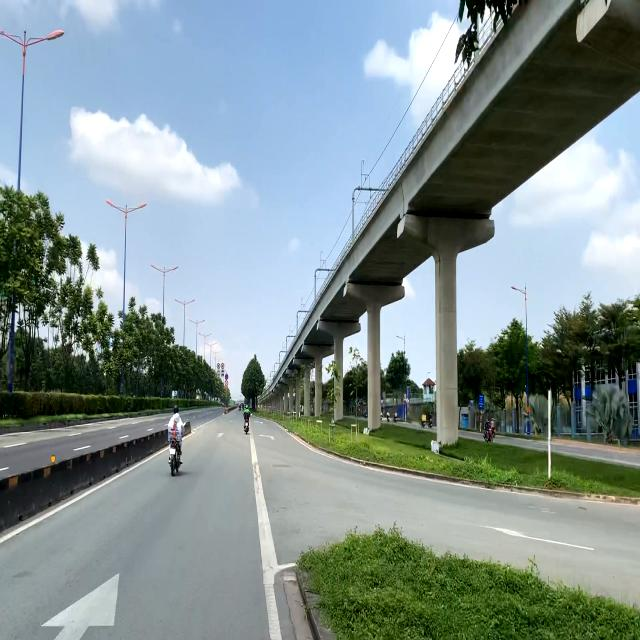P.127: (221, 362, 225, 369), (217, 363, 220, 369)
P.130: (225, 374, 228, 380)
